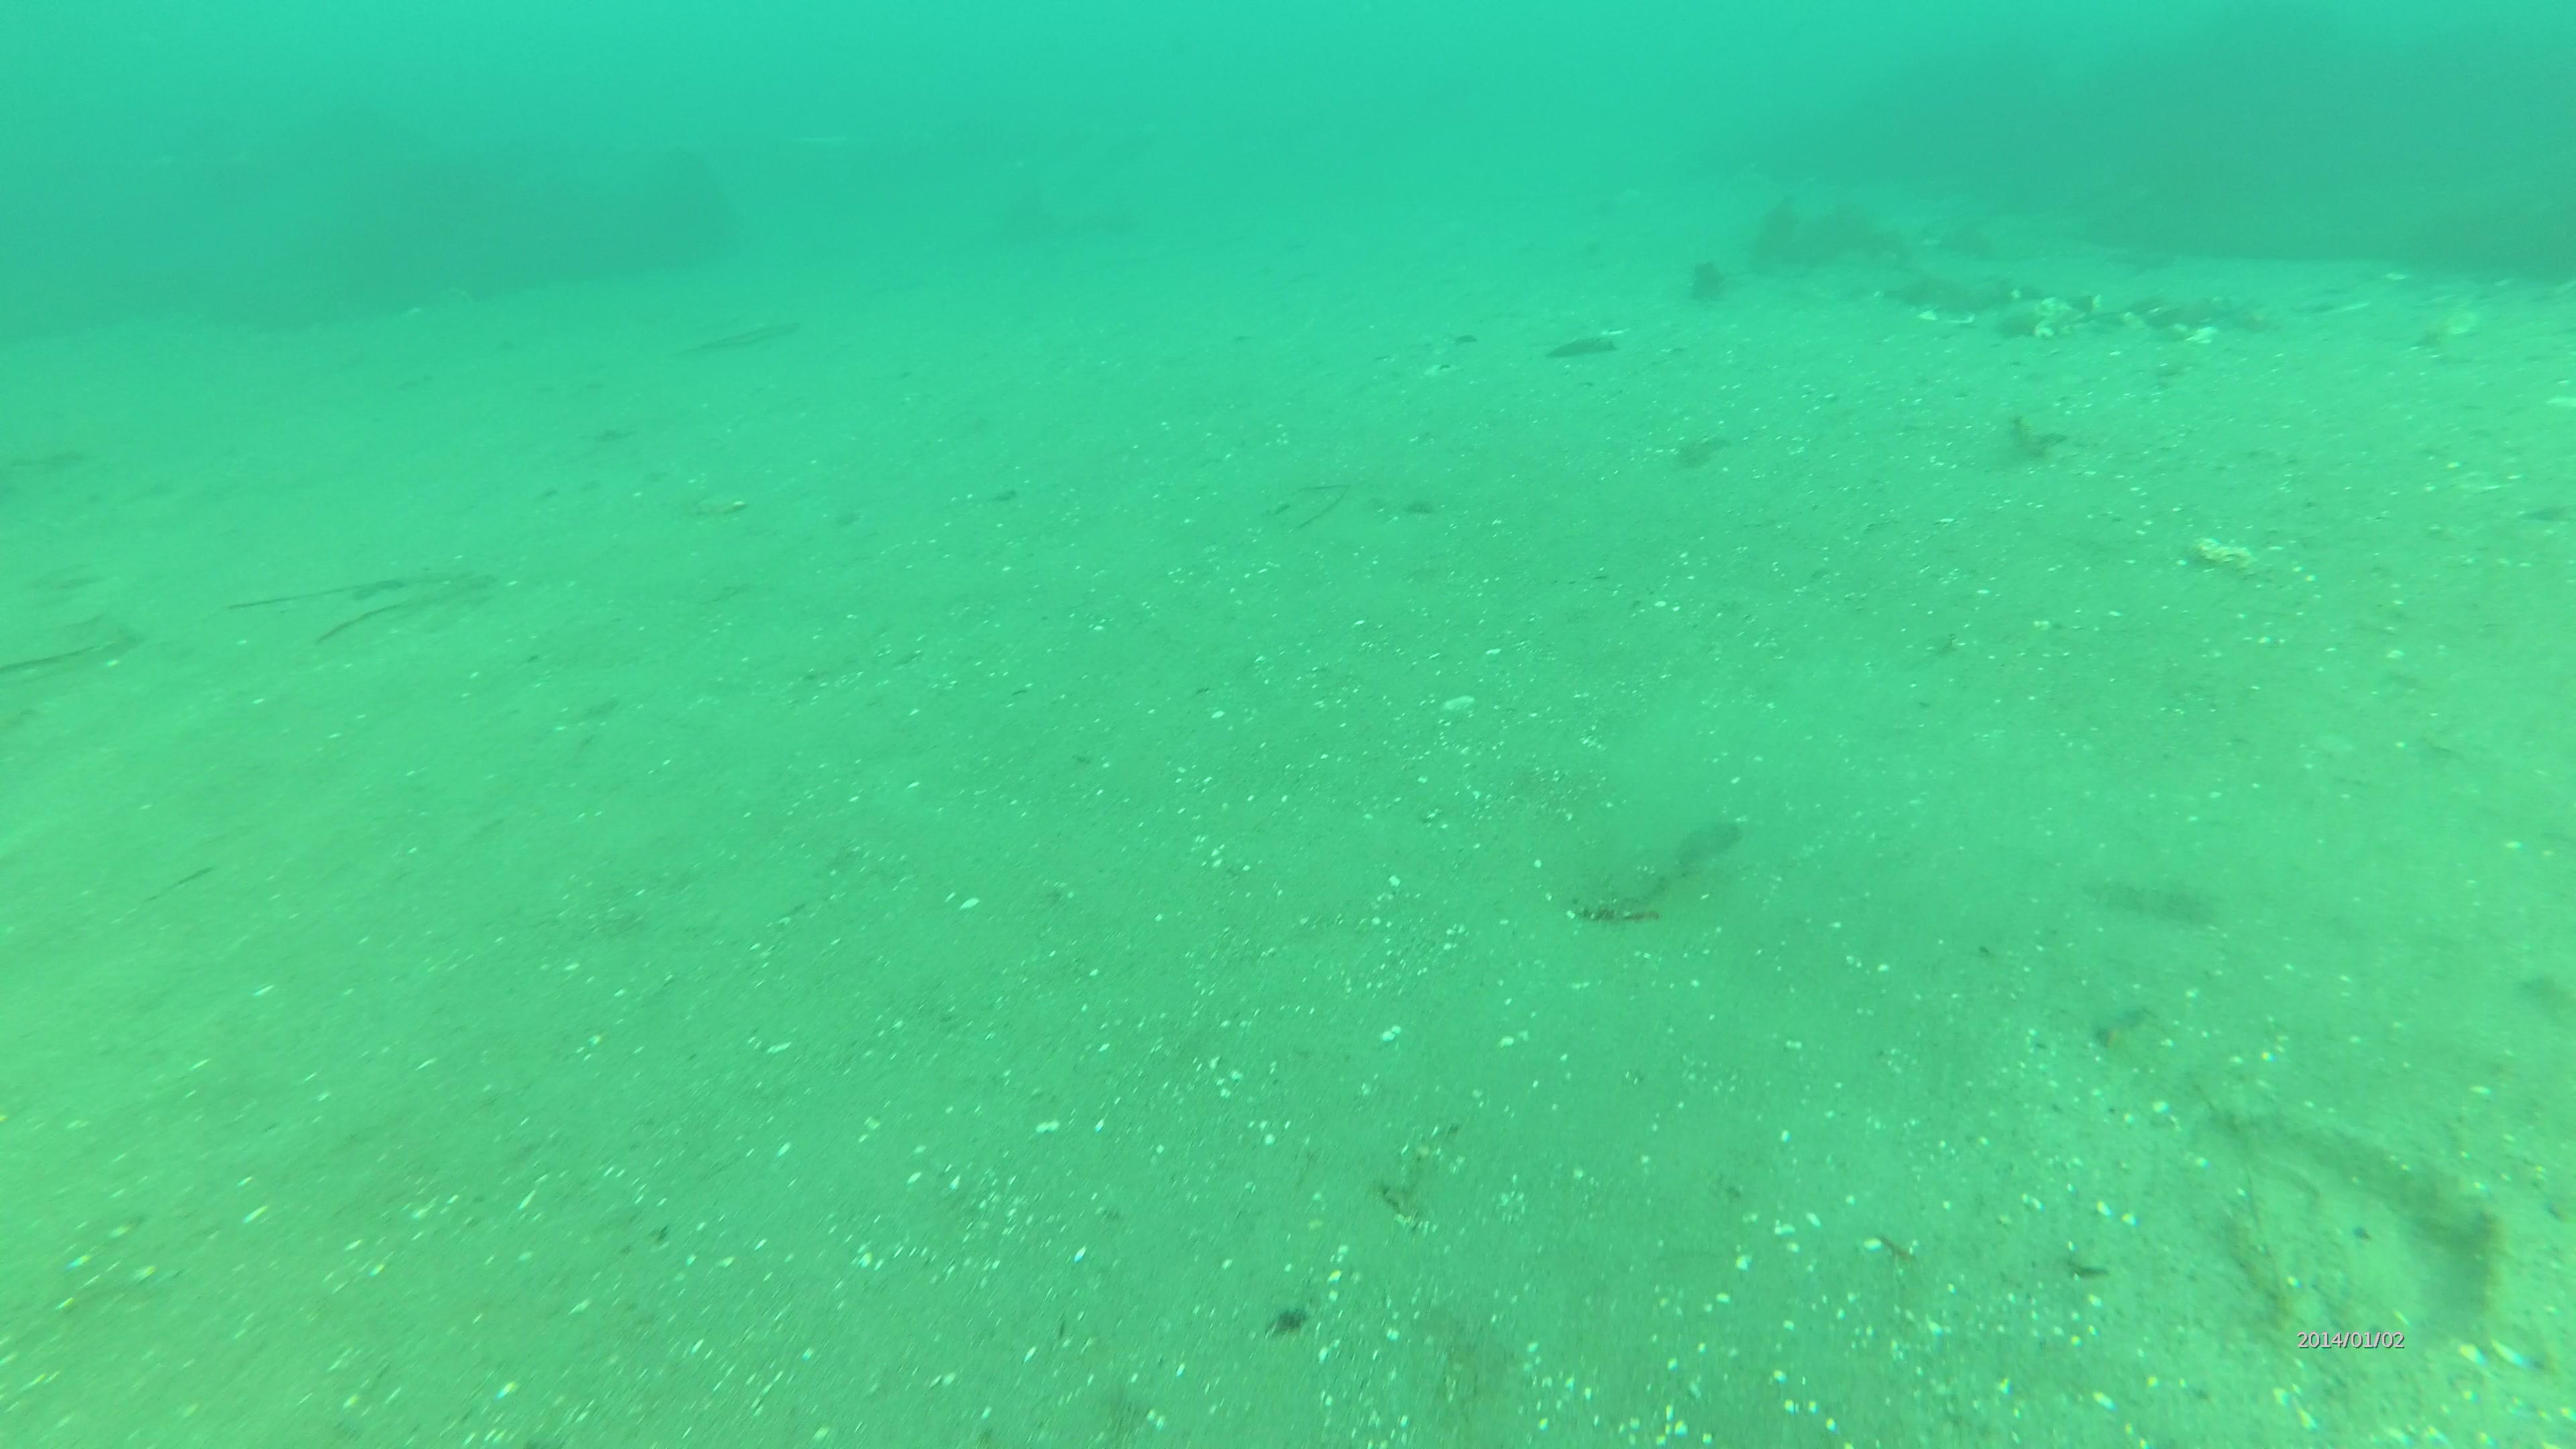scallop: (1675, 819, 1752, 883), (2183, 517, 2229, 573)
